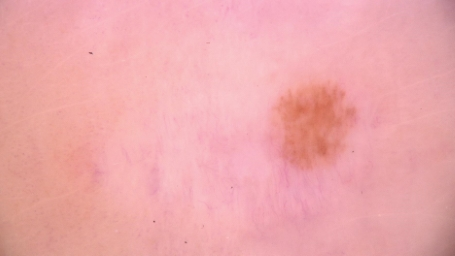melanoma: (272, 83, 361, 167)
